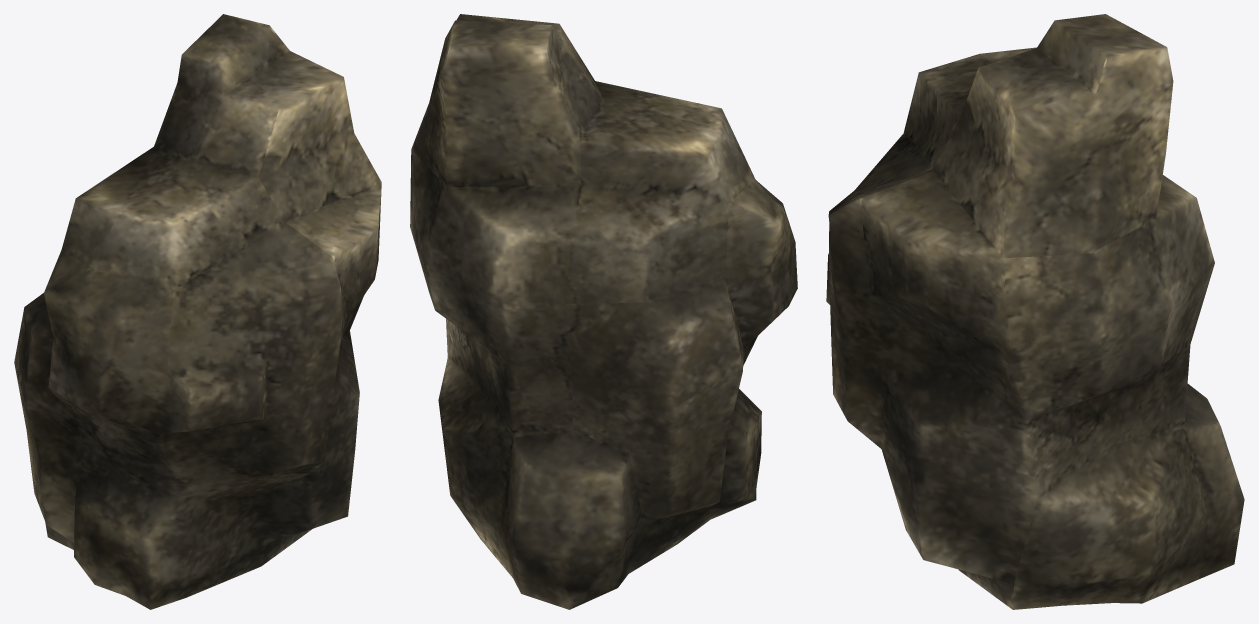
Rendered from roca_1.fbx.
3 views of the same model, side by side, from view 1: azimuth 30°, elevation 25°; view 2: azimuth 150°, elevation 25°; view 3: azimuth 270°, elevation 25° (orthographic). The views are drawn at different scales.
Visible parts, largest first — view 1: roca_1; view 2: roca_1; view 3: roca_1.
Part boxes in pixels (x1,y1,x2,y2): roca_1: [14, 14, 381, 609]; roca_1: [410, 14, 797, 609]; roca_1: [826, 14, 1244, 609].
Size of the model in its own units: 0.6334 by 0.9123 by 0.5806.
